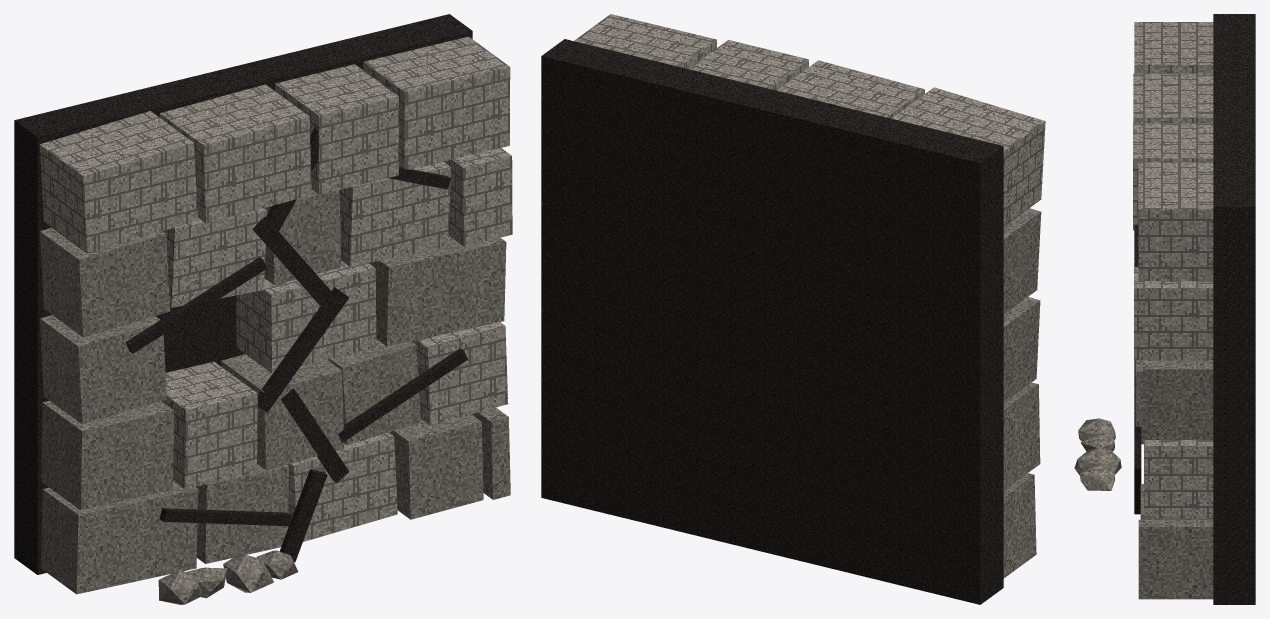
The model's file is wall_fill_stone.glb.
The picture shows the model from 3 angles, left to right: view 1: azimuth 30°, elevation 25°; view 2: azimuth 150°, elevation 25°; view 3: azimuth 270°, elevation 25°; orthographic projection. The views are drawn at different scales.
Parts seen in each view (by area): view 1: Body.001; view 2: Body.001; view 3: Body.001.
Part boxes in pixels (left/top/right/bottom): Body.001: left=14, top=14, right=512, bottom=604; Body.001: left=541, top=14, right=1045, bottom=604; Body.001: left=1074, top=14, right=1255, bottom=604.
Size of the model in its own units: 2.6 by 2.55 by 1.03.
3 materials, 3 textured.
